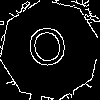O: (25, 25, 71, 78)
